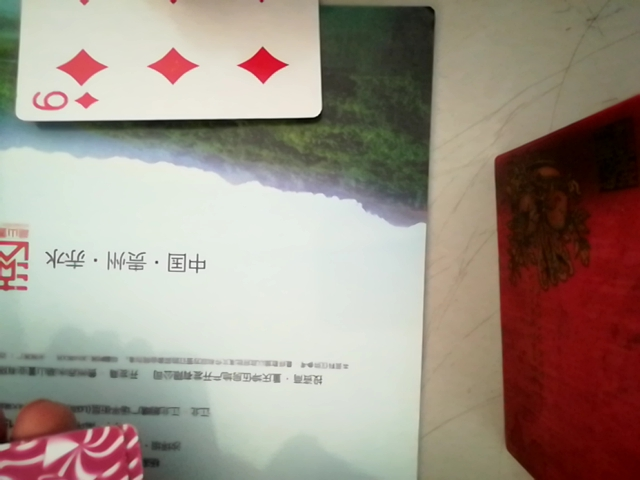fk 6: (1, 2, 326, 128)
